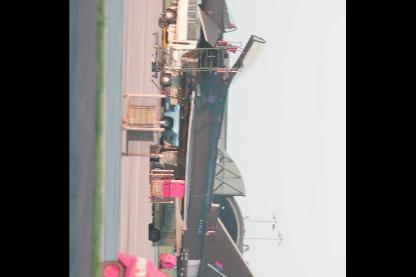E2: (150, 0, 271, 276)
